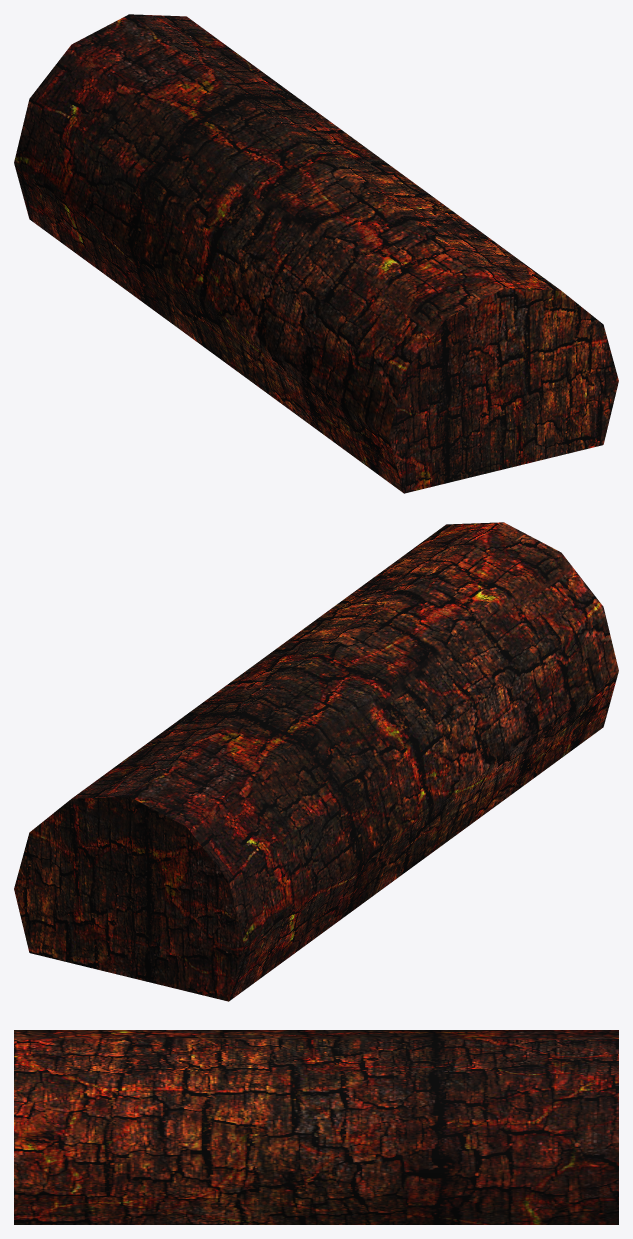
File: firewood_01.fbx
3 views of the same model, one above another, from view 1: azimuth 30°, elevation 25°; view 2: azimuth 150°, elevation 25°; view 3: azimuth 270°, elevation 25° (orthographic). The views are drawn at different scales.
Parts seen in each view (by area): view 1: firewood_01; view 2: firewood_01; view 3: firewood_01.
Part boxes in pixels (x1,y1,x2,y2): firewood_01: [14, 14, 618, 493]; firewood_01: [14, 522, 618, 1001]; firewood_01: [14, 1030, 618, 1224].
Bounding box in the file's own units: 9.76 × 7.32 × 27.51.
